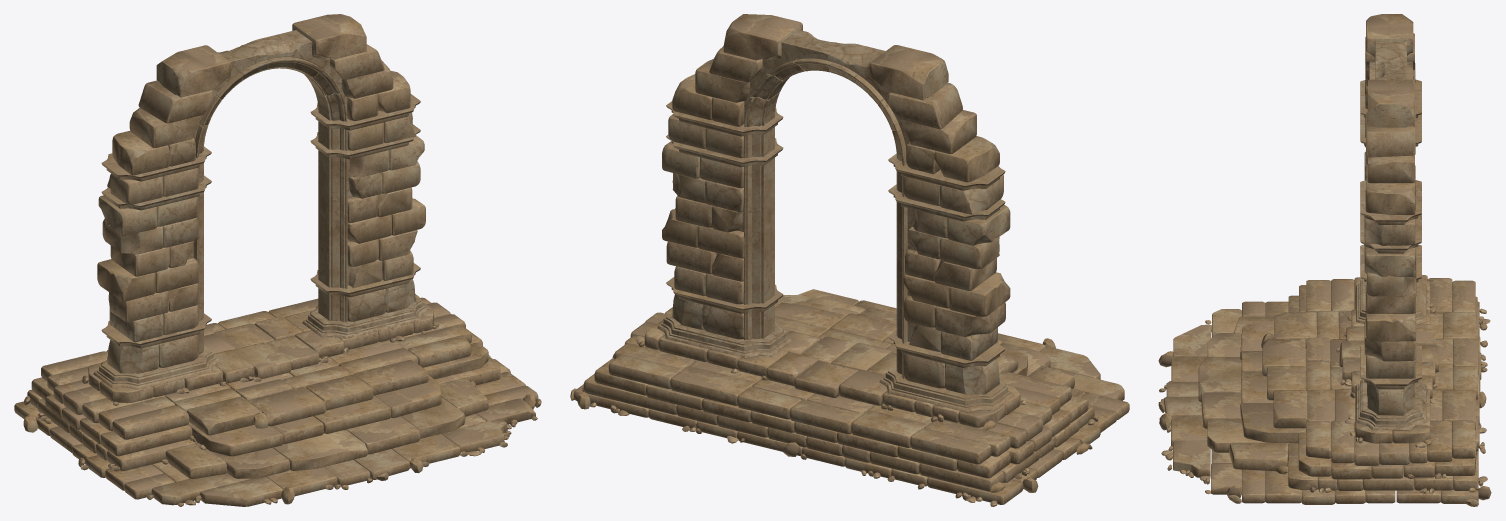
Rendered from ruin_arch.gltf.
3 renders of one model, left to right at view 1: azimuth 30°, elevation 25°; view 2: azimuth 150°, elevation 25°; view 3: azimuth 270°, elevation 25°, orthographic. The views are drawn at different scales.
Parts seen in each view (by area): view 1: egyptian_ruins_07_iray; view 2: egyptian_ruins_07_iray; view 3: egyptian_ruins_07_iray.
Boxes of the visible parts, box(x1,y1,x2,y2) form: egyptian_ruins_07_iray: box(14, 14, 541, 506); egyptian_ruins_07_iray: box(570, 14, 1129, 506); egyptian_ruins_07_iray: box(1158, 14, 1491, 506).
Bounding box in the file's own units: 8.03 × 6.47 × 5.58.
Materials: 3 (3 with a texture image).
